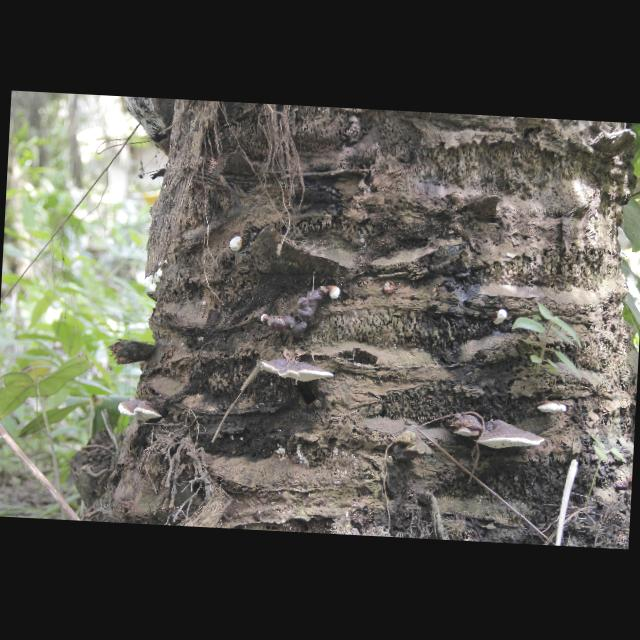ganoderma: (269, 285, 329, 344), (478, 420, 547, 453), (261, 357, 336, 385), (119, 400, 164, 423), (446, 414, 486, 439), (538, 401, 568, 415)
primordium: (493, 310, 509, 327), (230, 238, 245, 254), (329, 286, 342, 301), (261, 314, 269, 324), (203, 303, 207, 308)
